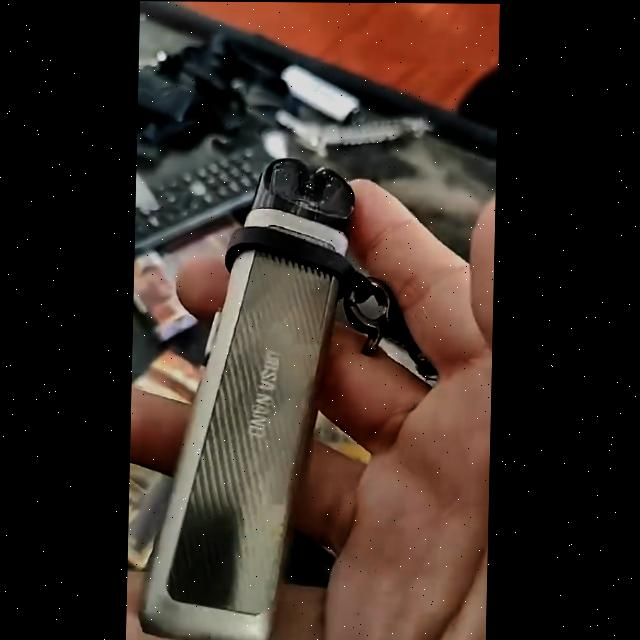vape: (143, 156, 359, 640)
